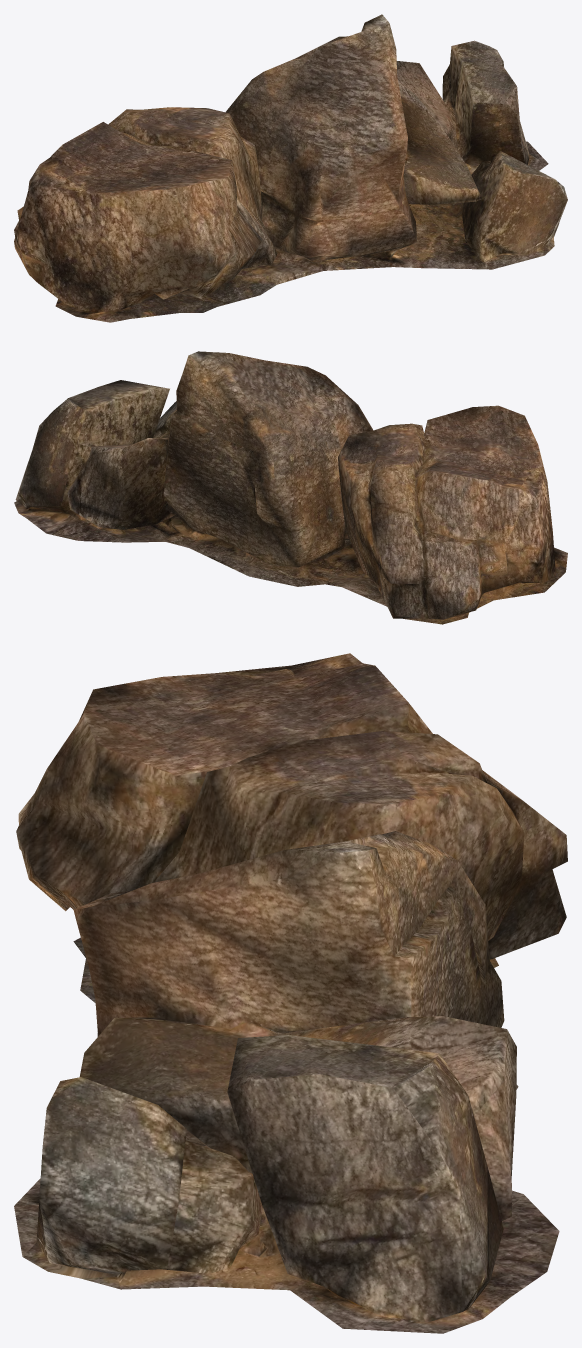
File: rock2.glb
3 views of the same model, one above another, from view 1: azimuth 30°, elevation 25°; view 2: azimuth 150°, elevation 25°; view 3: azimuth 270°, elevation 25° (orthographic). The views are drawn at different scales.
Parts seen in each view (by area): view 1: boulder_02; view 2: boulder_02; view 3: boulder_02.
Part boxes in pixels (x1,y1,x2,y2): boulder_02: (14, 14, 567, 322); boulder_02: (14, 351, 567, 624); boulder_02: (14, 653, 567, 1333).
Size of the model in its own units: 2.51 by 0.8562 by 1.23.
1 material, 1 textured.
